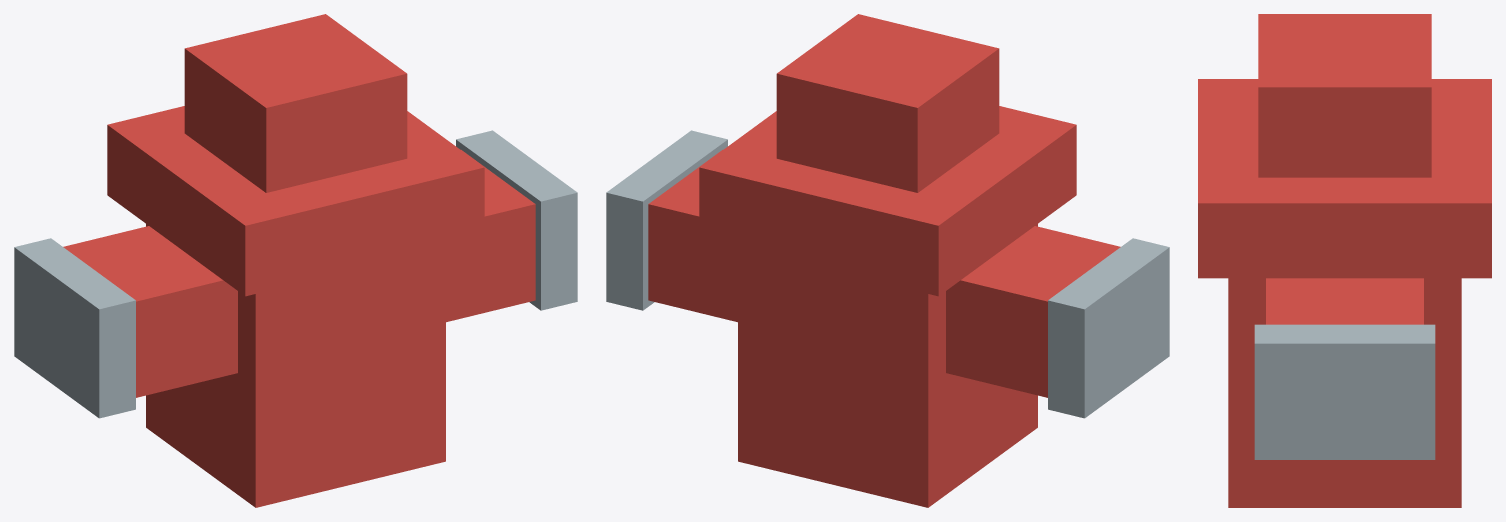
3 views of the same model, side by side, from view 1: azimuth 30°, elevation 25°; view 2: azimuth 150°, elevation 25°; view 3: azimuth 270°, elevation 25° (orthographic). The views are drawn at different scales.
Visible parts, largest first — view 1: hydrant-body, hydrant-shoulder, hydrant-cap, hydrant-outlet (×2), outlet-cap (×2); view 2: hydrant-body, hydrant-shoulder, hydrant-cap, hydrant-outlet (×2), outlet-cap (×2); view 3: hydrant-shoulder, hydrant-cap, outlet-cap, hydrant-body, hydrant-outlet.
Part boxes in pixels (x1,y1,x2,y2): hydrant-body: (146,224,445,507); hydrant-shoulder: (107,106,484,296); hydrant-cap: (184,14,407,192); hydrant-outlet (×2): (63,150,535,397); outlet-cap (×2): (14,130,577,418); hydrant-body: (738,224,1037,507); hydrant-shoulder: (699,106,1076,296); hydrant-cap: (776,14,999,192); hydrant-outlet (×2): (648,150,1120,397); outlet-cap (×2): (606,130,1169,418); hydrant-shoulder: (1198,79,1491,278); hydrant-cap: (1258,14,1431,177); outlet-cap: (1254,324,1435,459); hydrant-body: (1228,278,1461,507); hydrant-outlet: (1266,278,1423,324).
Size of the model in its own units: 1.56 by 1.2 by 0.78.
